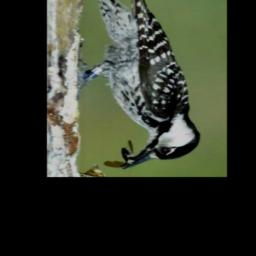Woodpecker: (76, 0, 200, 171)
